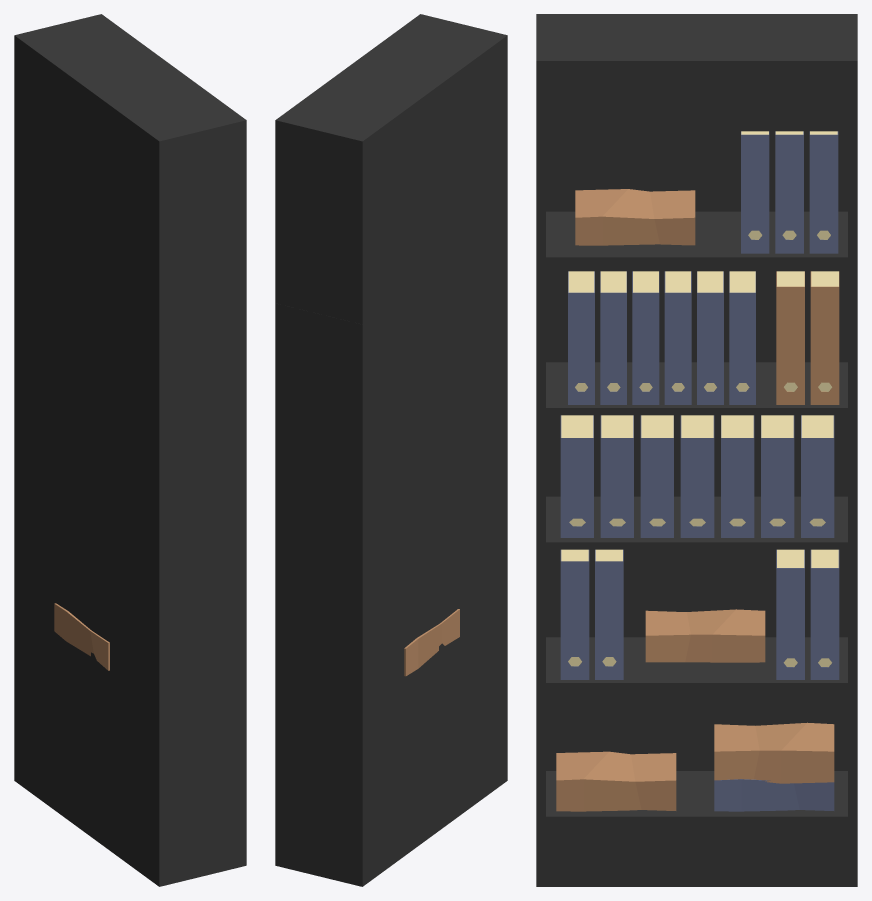
File: bookshelf1.fbx
3 views of the same model, side by side, from view 1: azimuth 30°, elevation 25°; view 2: azimuth 150°, elevation 25°; view 3: azimuth 270°, elevation 25° (orthographic). The views are drawn at different scales.
Visible parts, largest first — view 1: Cabinet1_011_87, Cabinet1_012_79, Cabinet1_013_80, Cube_168_84; view 2: Cabinet1_011_87, Cabinet1_012_79, Cabinet1_013_80, Cube_168_84; view 3: Cabinet1_011_87, Cabinet1_013_80, Book0_002_70, Cabinet1_012_79, Book0_001_69, Book0_005_73, Book0_010_78, Book0_004_72, Book0_003_71, Cube_165_81, Cube_167_83, Cube_169_85 (+2 smaller).
Part boxes in pixels (x1=…): Cabinet1_011_87: x1=14, y1=471, x2=246, y2=886; Cabinet1_012_79: x1=14, y1=219, x2=246, y2=576; Cabinet1_013_80: x1=14, y1=14, x2=246, y2=324; Cube_168_84: x1=54, y1=603, x2=109, y2=670; Cabinet1_011_87: x1=275, y1=471, x2=507, y2=886; Cabinet1_012_79: x1=275, y1=219, x2=507, y2=577; Cabinet1_013_80: x1=275, y1=14, x2=507, y2=324; Cube_168_84: x1=404, y1=609, x2=459, y2=676; Cabinet1_011_87: x1=536, y1=496, x2=857, y2=886; Cabinet1_013_80: x1=536, y1=14, x2=857, y2=263; Book0_002_70: x1=560, y1=415, x2=834, y2=537; Cabinet1_012_79: x1=536, y1=264, x2=857, y2=542; Book0_001_69: x1=568, y1=271, x2=755, y2=404; Book0_005_73: x1=741, y1=131, x2=838, y2=253; Book0_010_78: x1=776, y1=271, x2=839, y2=404; Book0_004_72: x1=776, y1=549, x2=839, y2=679; Book0_003_71: x1=560, y1=549, x2=623, y2=679; Cube_165_81: x1=556, y1=751, x2=676, y2=811; Cube_167_83: x1=714, y1=722, x2=834, y2=783; Cube_169_85: x1=575, y1=189, x2=695, y2=245.
Size of the model in its own units: 24.67 by 197 by 69.5.
